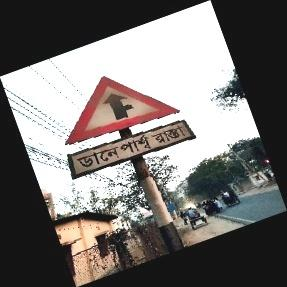Side-road-right: (63, 75, 193, 180)
